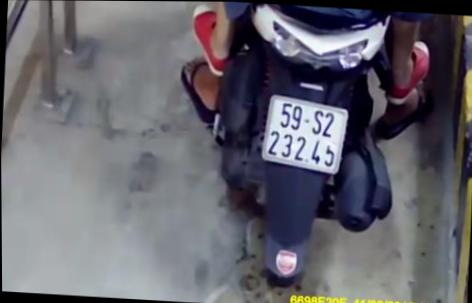LP: (255, 88, 347, 182)
